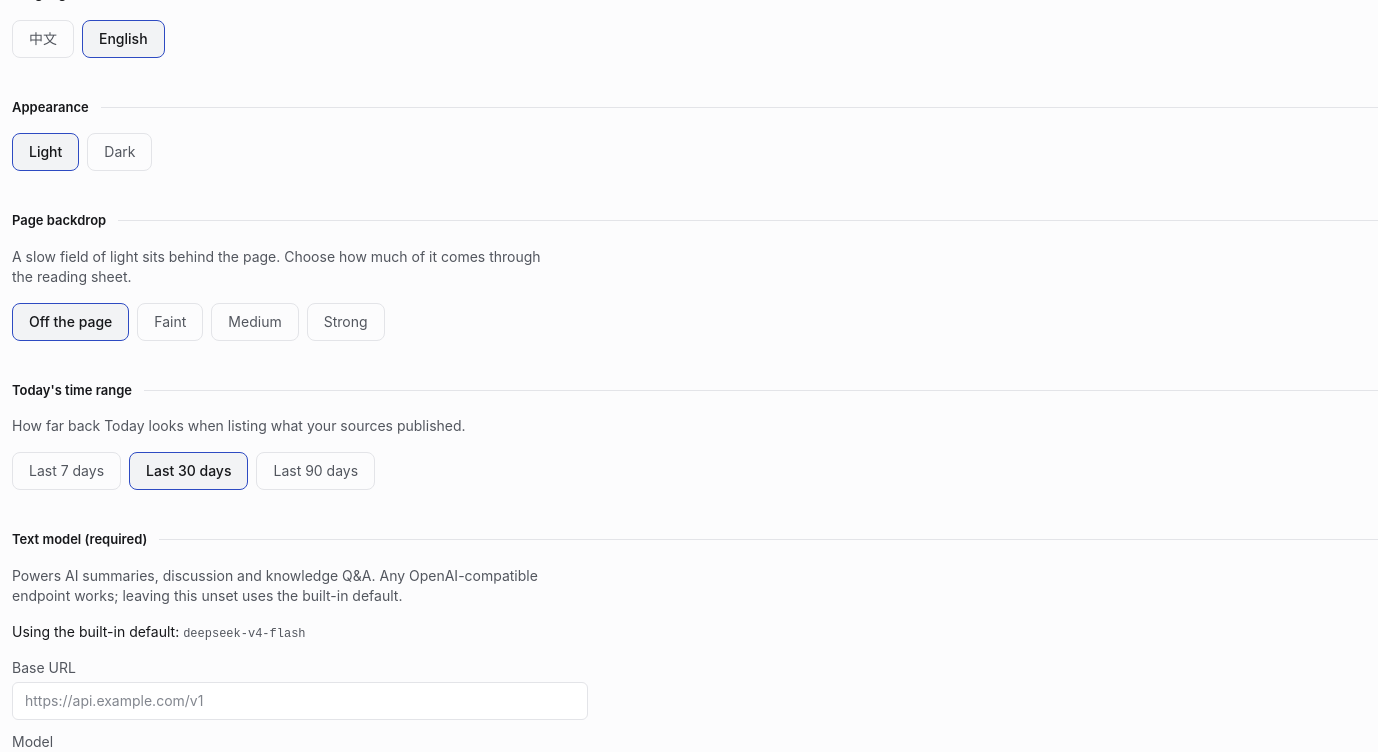
SettingsView (model API credentials, 2026-07-23) › saves a custom text endpoint and shows the masked key
expect the heading "Text model (required)" is shown: met, box [12,530,147,550]
Type "https://api.example.cn/v1" into the field labelled "Base URL" at x=300, y=700, box [12,682,588,720]
(page scrolled)
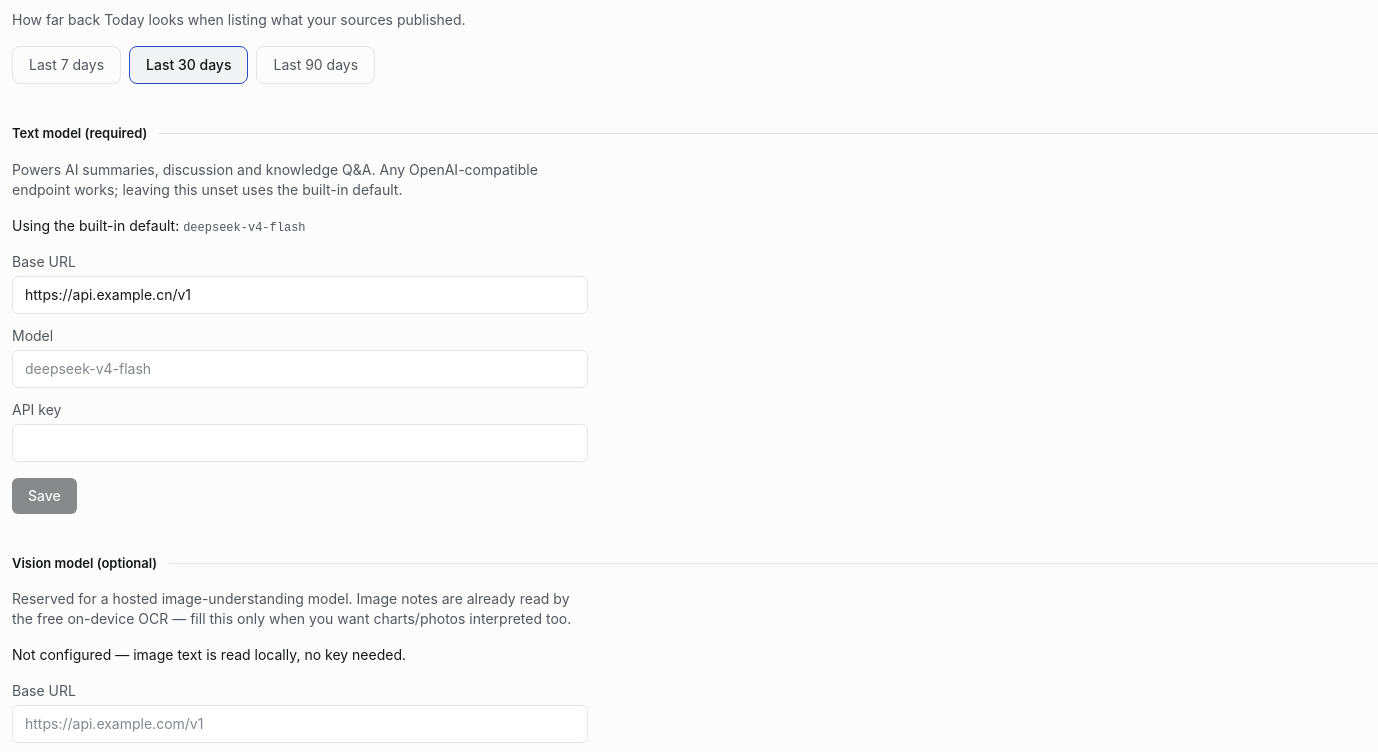
Type "their-model" into the field labelled "Model" at x=300, y=368, box [12,350,588,388]
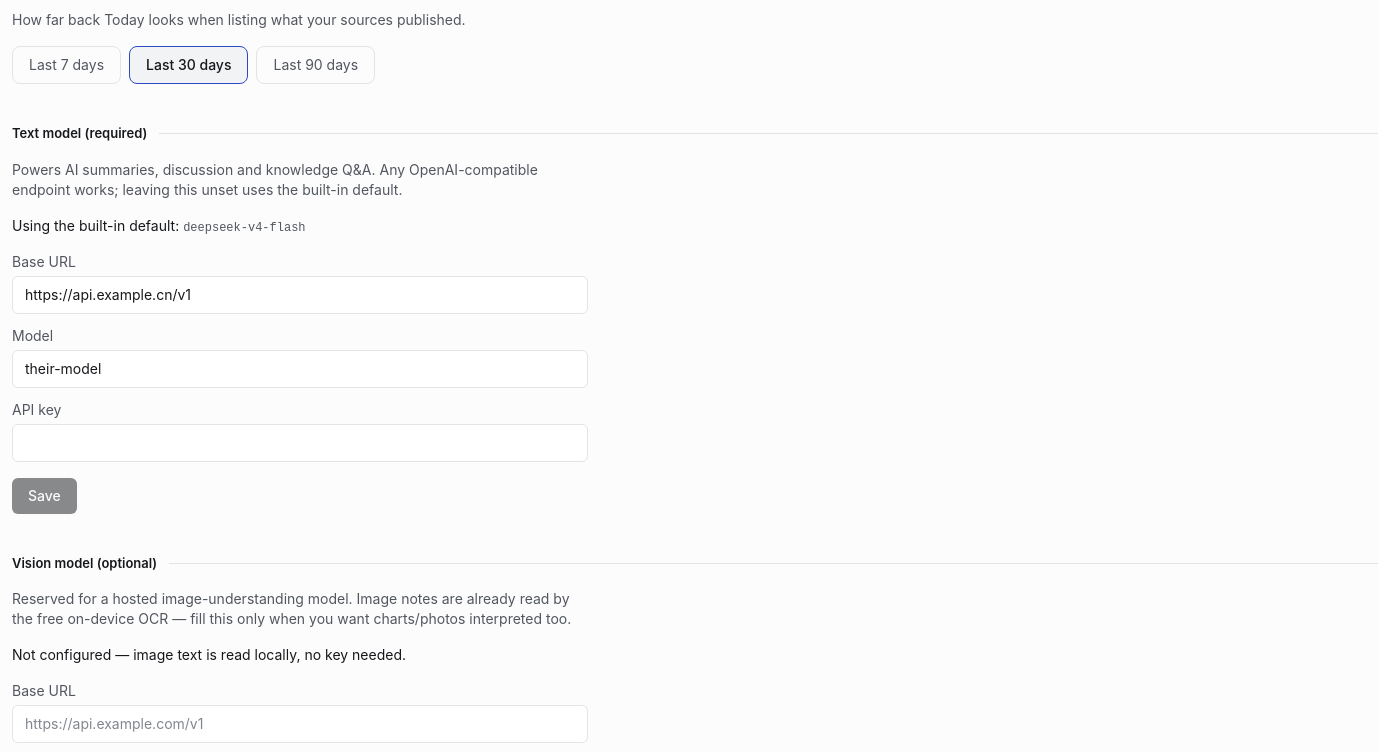
Type "sk-secret9876" into the password field labelled "API key" at x=300, y=442, box [12,424,588,462]
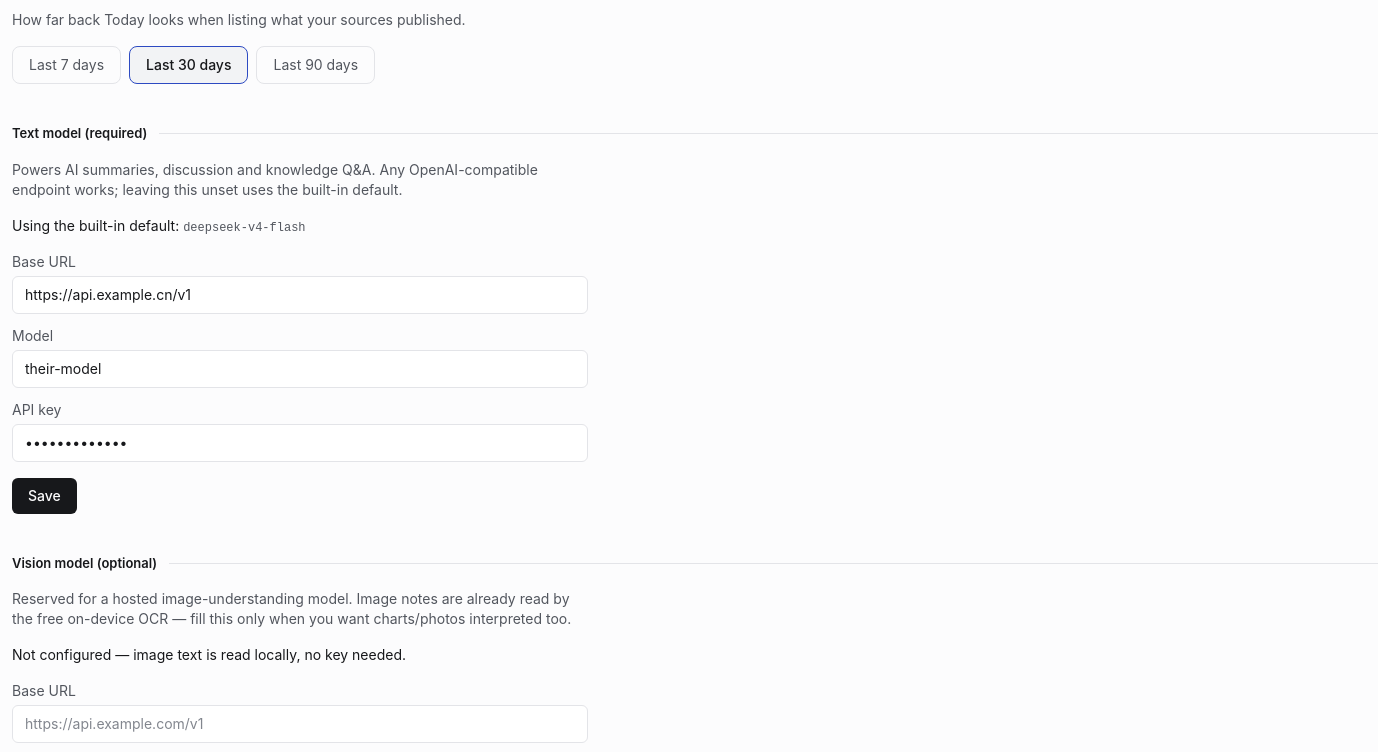
Click the button "Save" at x=44, y=496, box [12,478,77,514]
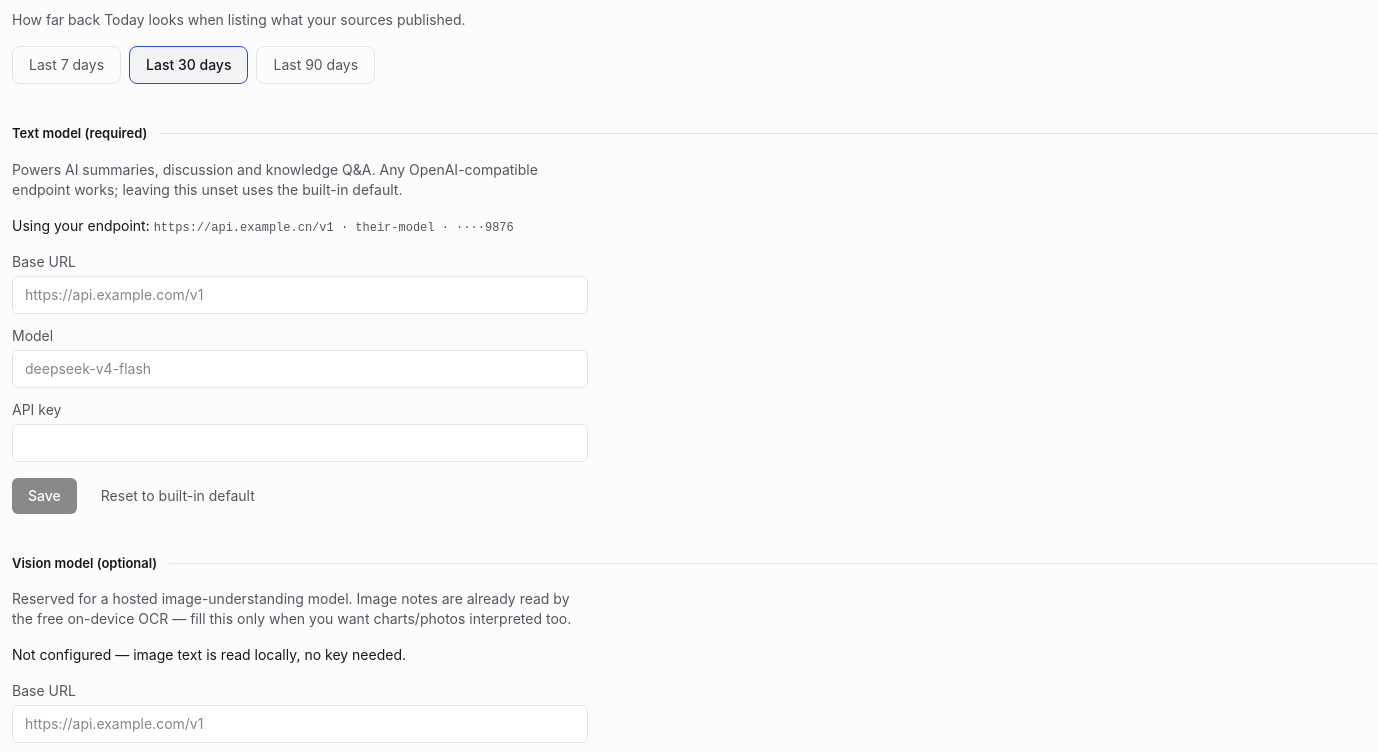
expect the text "https://api.example.cn/v1 · their-model · ····9876" is shown: met, box [154,220,514,234]
